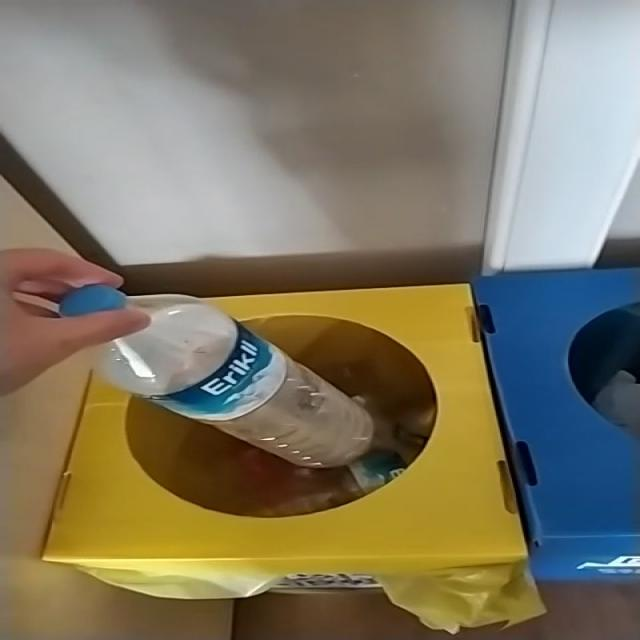plastic: (59, 284, 287, 424)
